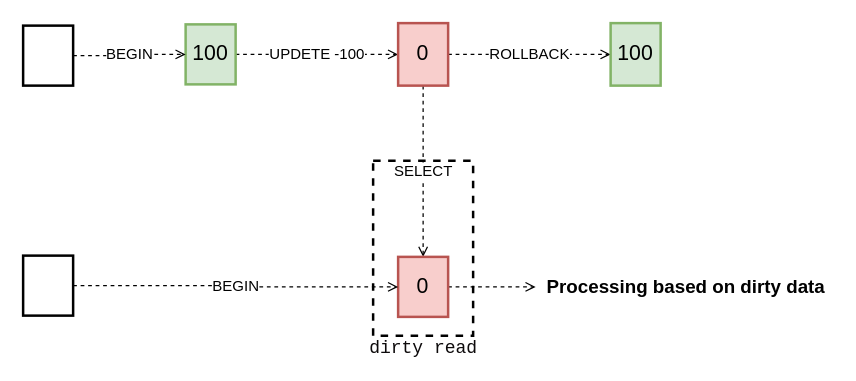
This 856x381 diagram has some shape labels left out. Here are the shapes that lost their labels. From the top down, the centre of each, then its label:
point 47,55: TX1
point 47,285: TX2
